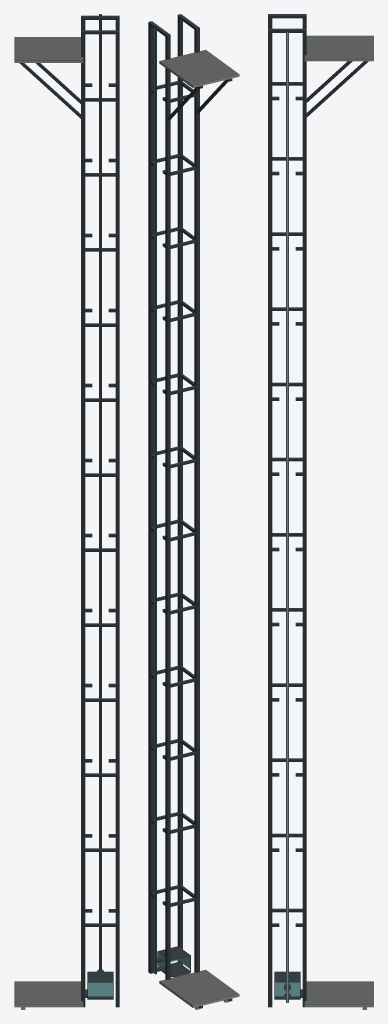
3 views of the same model, side by side, from view 1: azimuth 90°, elevation 25°; view 2: azimuth 210°, elevation 25°; view 3: azimuth 270°, elevation 25° (orthographic). The views are drawn at different scales.
Visible parts, largest first — view 1: 151米同轴四柱开放井架, 石铺面与混凝土承板 (×2), 静态开放乘舱与侧导向试架, 井架至接台实梁与斜撑; view 2: 151米同轴四柱开放井架, 石铺面与混凝土承板 (×2), 静态开放乘舱与侧导向试架, 井架至接台实梁与斜撑; view 3: 151米同轴四柱开放井架, 石铺面与混凝土承板 (×2), 静态开放乘舱与侧导向试架, 井架至接台实梁与斜撑.
Boxes of the visible parts, box(x1,y1,x2,y2) form: 151米同轴四柱开放井架: box(81, 14, 119, 1007); 石铺面与混凝土承板 (×2): box(14, 37, 83, 1007); 静态开放乘舱与侧导向试架: box(87, 969, 113, 999); 井架至接台实梁与斜撑: box(19, 63, 80, 118); 151米同轴四柱开放井架: box(148, 14, 199, 979); 石铺面与混凝土承板 (×2): box(159, 49, 239, 1007); 静态开放乘舱与侧导向试架: box(153, 946, 190, 977); 井架至接台实梁与斜撑: box(168, 78, 232, 120); 151米同轴四柱开放井架: box(268, 14, 306, 1007); 石铺面与混凝土承板 (×2): box(304, 35, 373, 1007); 静态开放乘舱与侧导向试架: box(274, 971, 300, 999); 井架至接台实梁与斜撑: box(306, 61, 368, 117).
Bounding box in the file's own units: 8 × 156 × 15.3.
8 materials, 8 textured.
